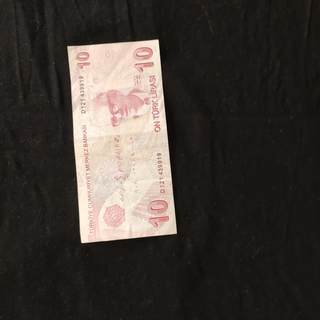10TLBack: (65, 38, 179, 245)
